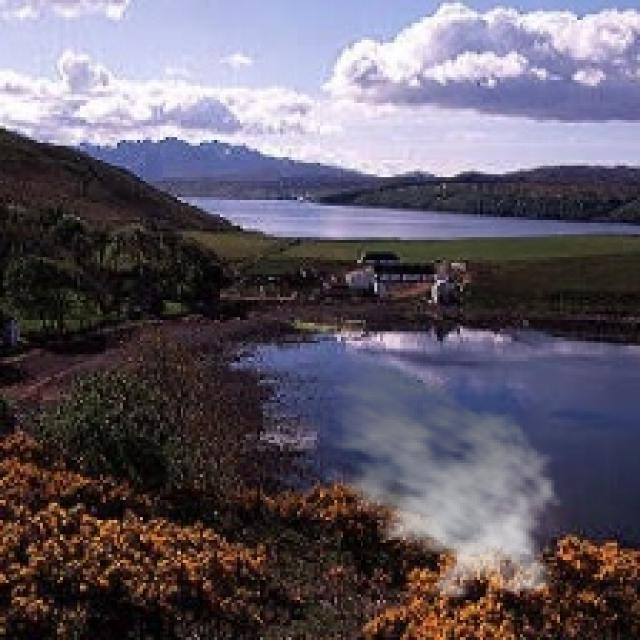smoke: (308, 360, 566, 600)
